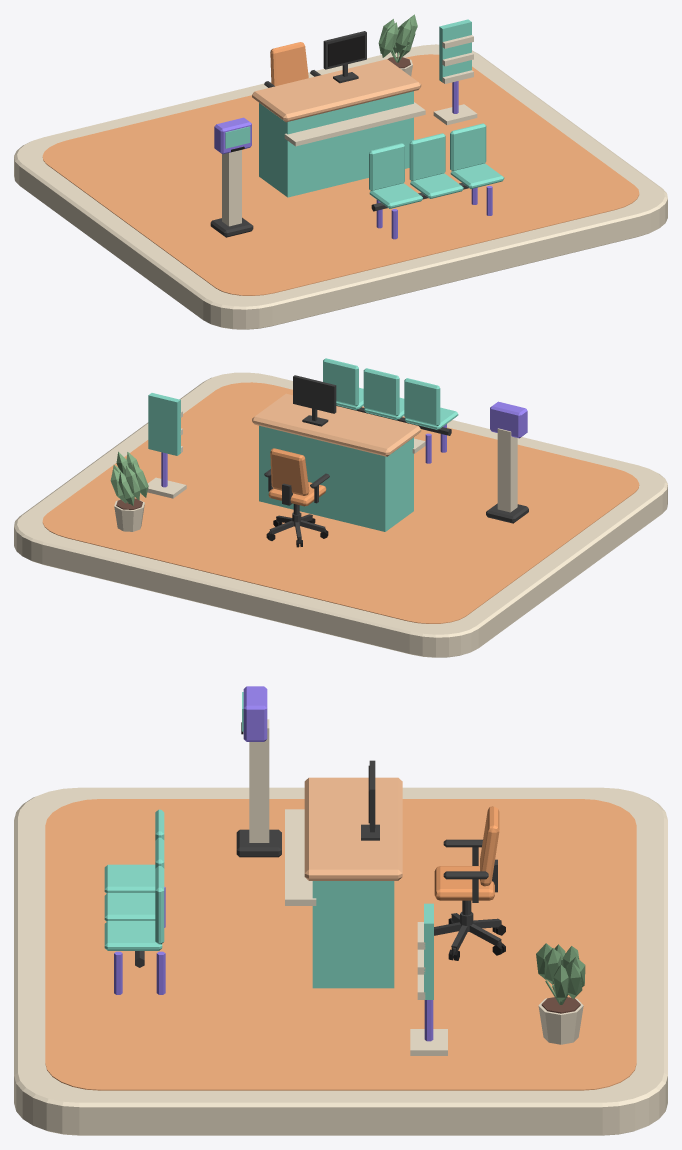
3 renders of one model, top to bottom at view 1: azimuth 30°, elevation 25°; view 2: azimuth 150°, elevation 25°; view 3: azimuth 270°, elevation 25°, orthographic. The views are drawn at different scales.
Parts seen in each view (by area): view 1: COM-02 Floor Surface, COM-01 Rounded Base Direct, Counter body, Countertop, Visitor shelf, Frame, Back.001, Back.002, COM-04_Chair_blender_direct, Back, Pedestal, Pot (+7 smaller); view 2: COM-02 Floor Surface, COM-01 Rounded Base Direct, Counter body, Countertop, COM-04_Chair_blender_direct, Pot, Pedestal, Frame, Back.001, Back, Back.002, Display housing (+5 smaller); view 3: COM-02 Floor Surface, COM-01 Rounded Base Direct, Countertop, Counter body, COM-04_Chair_blender_direct, Pot, Pedestal, Visitor shelf, Seat.002, Seat, Seat.001, Display housing (+4 smaller).
Part boxes in pixels (x1,y1,x2,y2): COM-02 Floor Surface: (42,54,639,295); COM-01 Rounded Base Direct: (14,44,667,329); Counter body: (259,91,413,197); Countertop: (252,59,421,122); Visitor shelf: (284,102,425,146); Frame: (323,31,366,83); Back.001: (409,133,445,180); Back.002: (450,123,486,170); COM-04_Chair_blender_direct: (264,42,320,87); Back: (369,143,404,190); Pedestal: (222,150,241,226); Pot: (378,14,417,76); COM-02 Floor Surface: (42,382,639,623); COM-01 Rounded Base Direct: (14,372,667,657); Counter body: (259,425,413,531); Countertop: (252,393,421,456); COM-04_Chair_blender_direct: (264,448,329,547); Pot: (110,451,148,531); Pedestal: (497,428,517,512); Frame: (293,375,336,426); Back.001: (363,368,399,416); Back: (404,378,440,426); Back.002: (323,358,358,406); Display housing: (490,401,527,438); COM-02 Floor Surface: (45,799,636,1090); COM-01 Rounded Base Direct: (14,787,667,1135); Countertop: (304,777,402,880); Counter body: (312,881,394,988); COM-04_Chair_blender_direct: (434,806,505,960); Pot: (536,943,585,1044); Pedestal: (249,719,269,842); Visitor shelf: (285,809,316,905); Seat.002: (104,921,162,950); Seat: (104,864,155,893); Seat.001: (104,893,155,921); Display housing: (243,686,267,741).
Bounding box in the file's own units: 6 × 1.87 × 5.2.
Materials: 1 (1 with a texture image).
